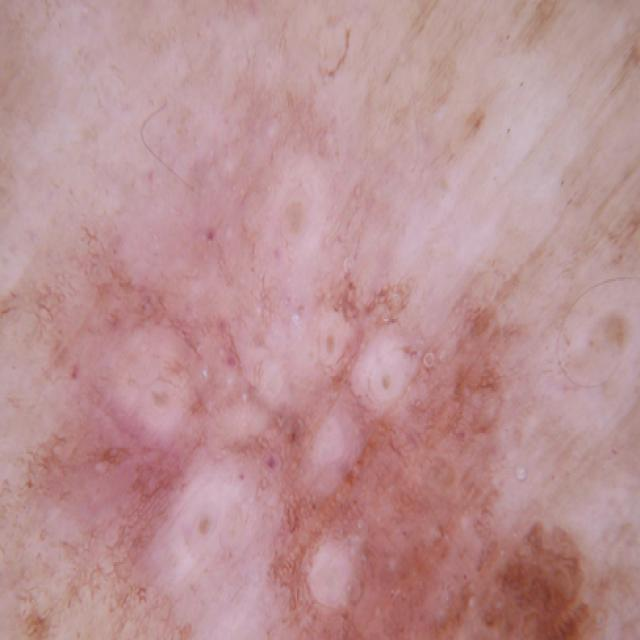Dermatofibroma: (45, 190, 593, 640)
